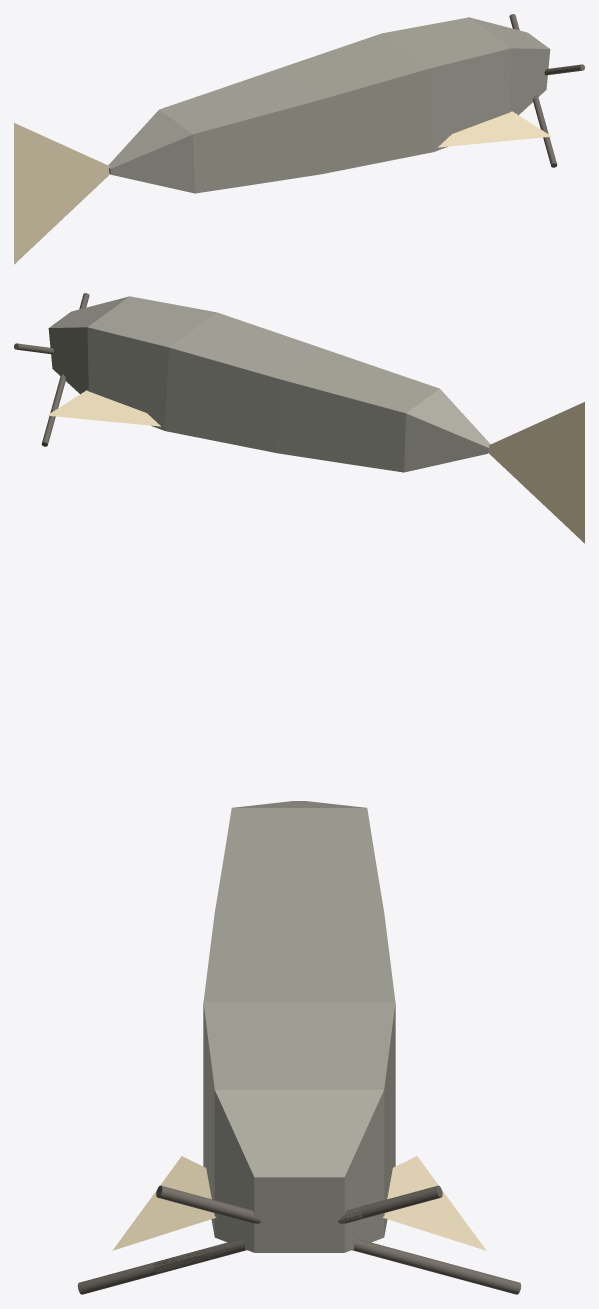
The model's file is fish_catfish.glb.
3 views of the same model, one above another, from view 1: azimuth 30°, elevation 25°; view 2: azimuth 150°, elevation 25°; view 3: azimuth 270°, elevation 25° (orthographic). The views are drawn at different scales.
Parts seen in each view (by area): view 1: CatFish, c_tail, c_pect-1, Cylinder.001; view 2: CatFish, c_tail, c_pect1, Cylinder; view 3: CatFish, c_pect-1, c_pect1, Cylinder, Cylinder.001, Cylinder.002.
Part boxes in pixels (x1,y1,x2,y2): CatFish: [108, 17, 550, 193]; c_tail: [14, 123, 110, 264]; c_pect-1: [438, 111, 551, 147]; Cylinder.001: [509, 14, 557, 167]; CatFish: [48, 296, 490, 472]; c_tail: [488, 402, 584, 543]; c_pect1: [47, 390, 160, 426]; Cylinder: [41, 293, 89, 446]; CatFish: [203, 801, 395, 1252]; c_pect-1: [112, 1156, 216, 1250]; c_pect1: [383, 1156, 486, 1250]; Cylinder: [156, 1185, 521, 1294]; Cylinder.001: [77, 1185, 442, 1294]; Cylinder.002: [235, 1206, 445, 1273].
Bounding box in the file's own units: 0.7892 × 0.2 × 0.2826.
